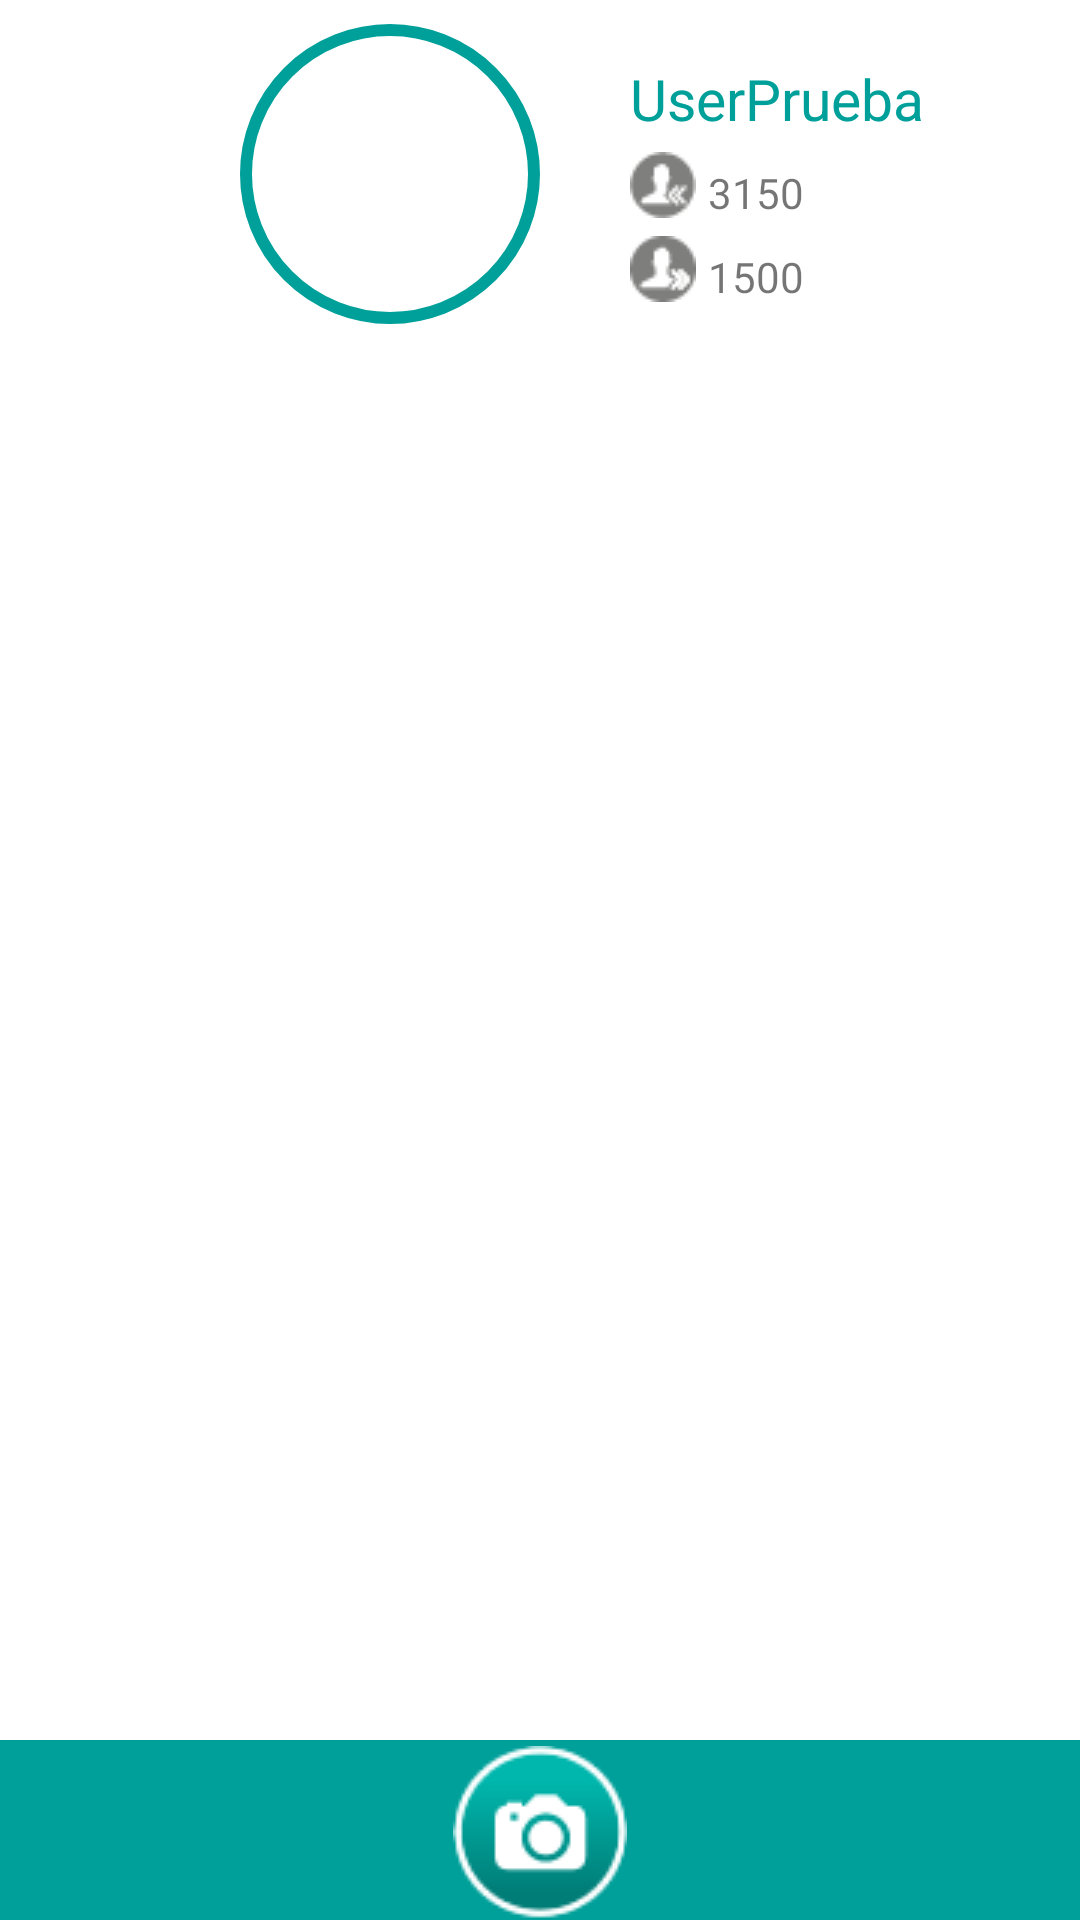

Icon bounding boxes for this 1080x1920 phone screenshot, format (x1, y1, x2, y2):
camara bt: (453, 1746, 627, 1918)
seguidores: (630, 152, 696, 218)
seguidos: (630, 236, 696, 302)
